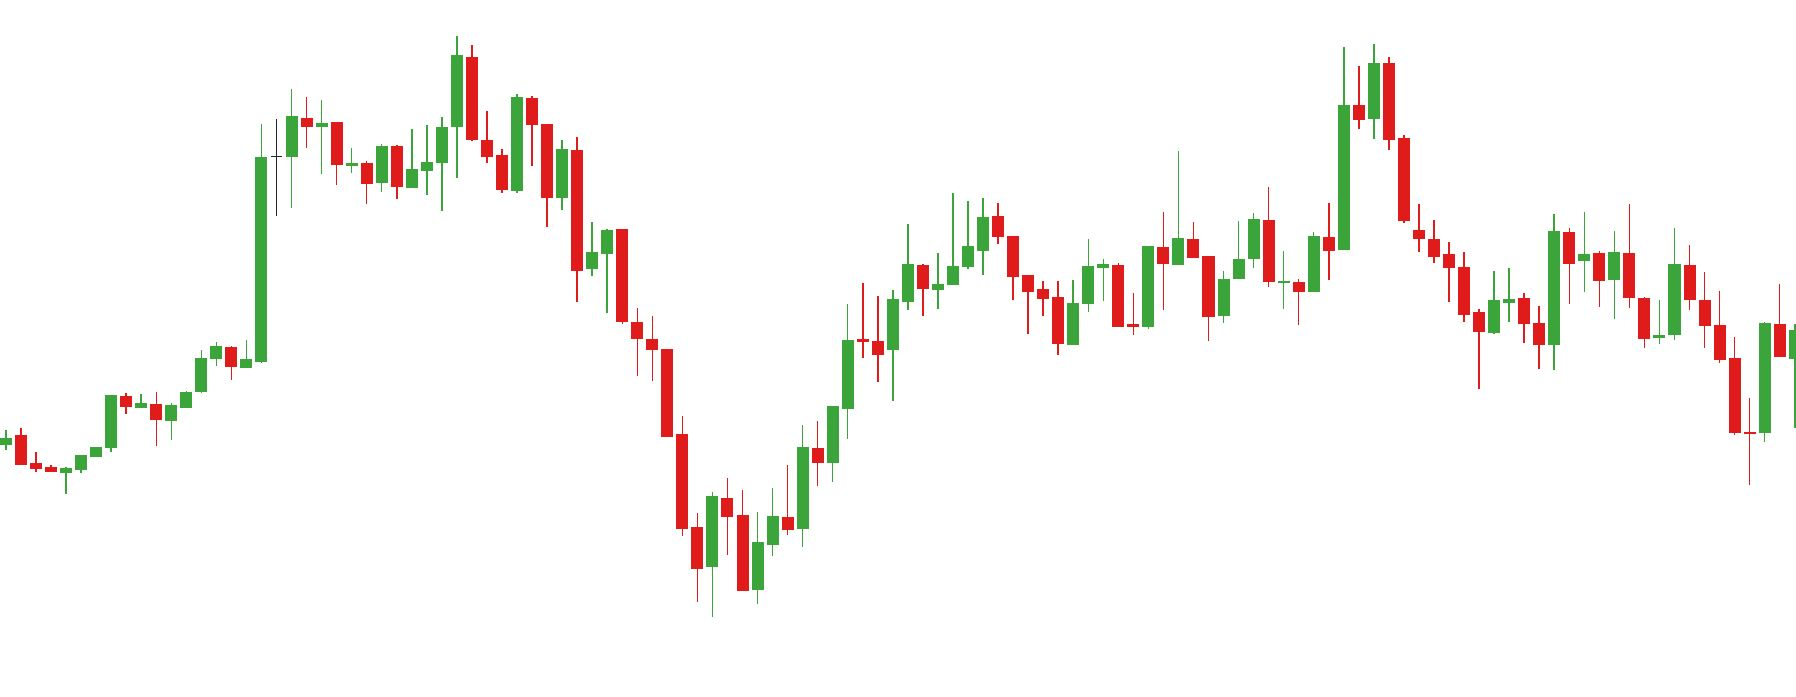buy: (1112, 225, 1232, 344)
sell: (284, 38, 478, 180)
